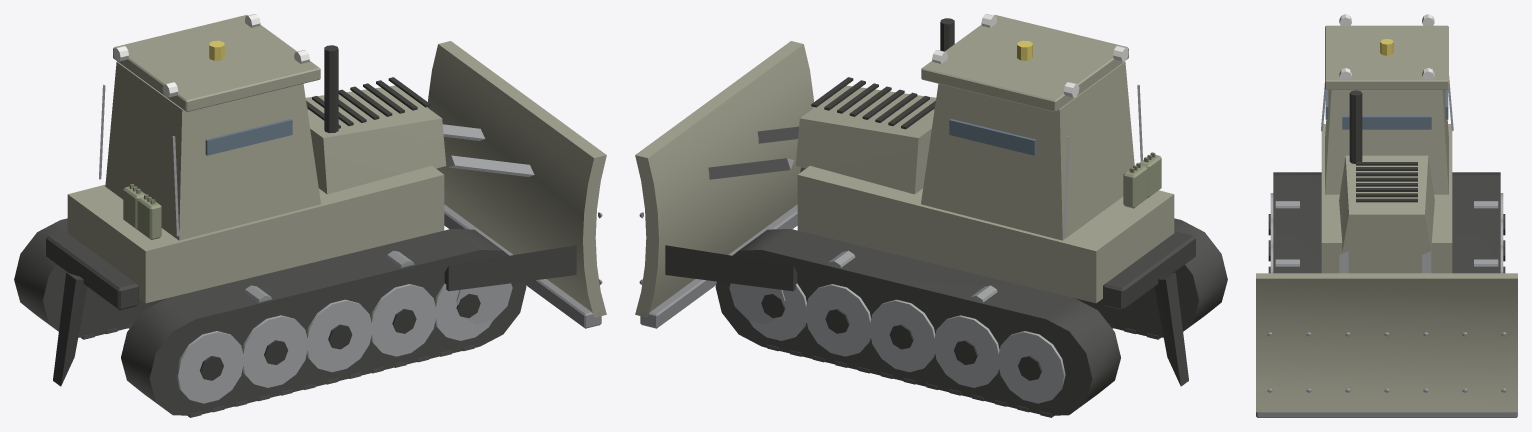
The model's file is dozer.glb.
The picture shows the model from 3 angles, left to right: view 1: azimuth 30°, elevation 25°; view 2: azimuth 150°, elevation 25°; view 3: azimuth 270°, elevation 25°; orthographic projection. The views are drawn at different scales.
Parts seen in each view (by area): view 1: hull; view 2: hull; view 3: hull.
Boxes of the visible parts, x1,y1,x2,y2 form: hull: [14, 14, 606, 417]; hull: [635, 14, 1227, 417]; hull: [1256, 14, 1517, 417].
Size of the model in its own units: 6.68 by 4.04 by 3.8.
